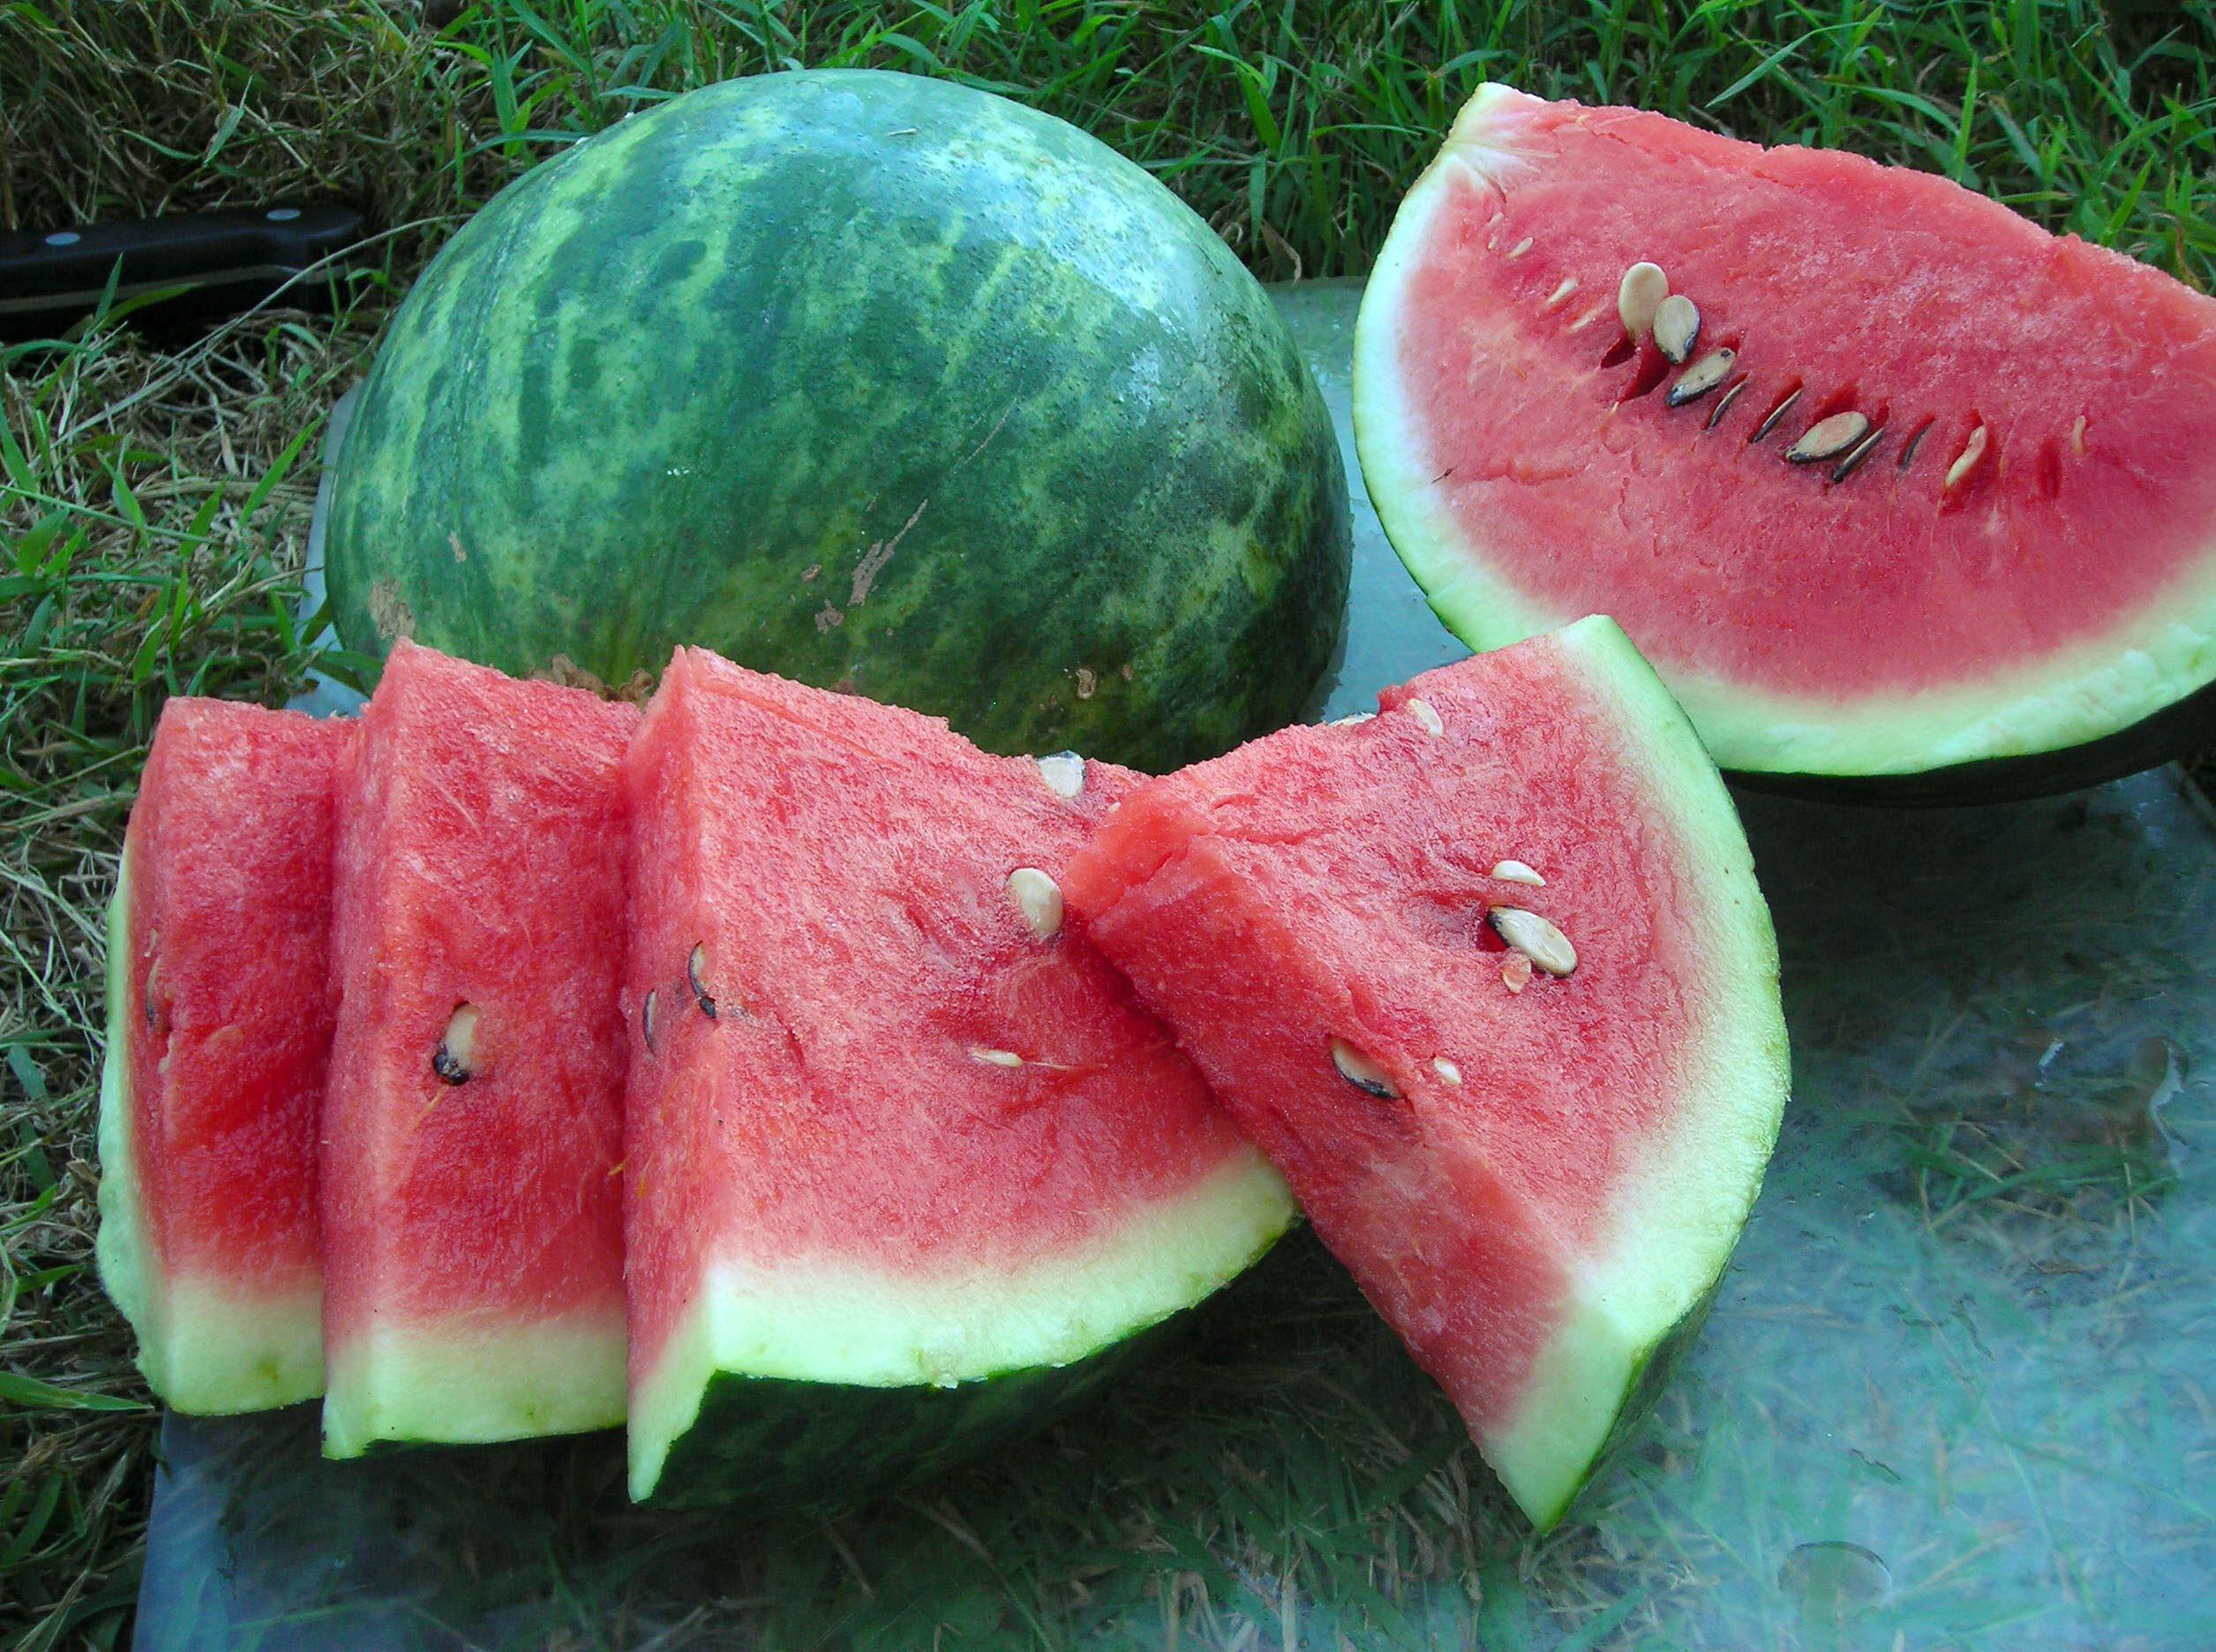watermelon: (127, 616, 1036, 1499), (292, 71, 1334, 734), (1118, 607, 1808, 1527), (1354, 80, 2216, 786)
